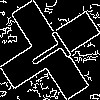T: (25, 25, 80, 76)
